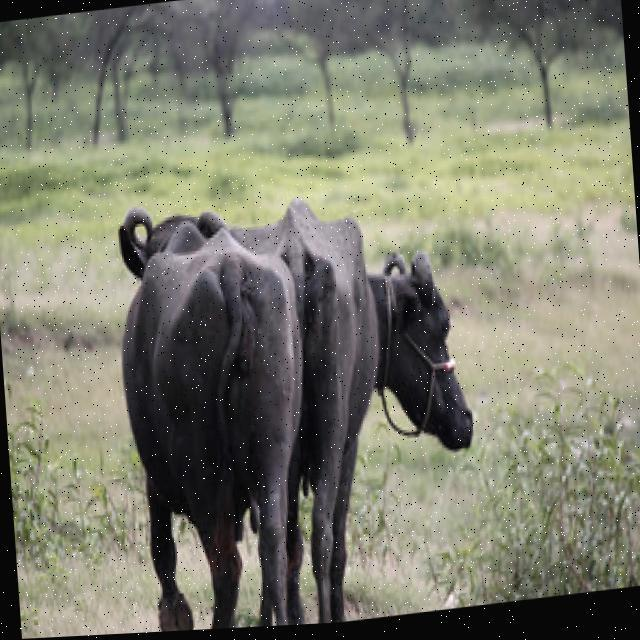Buffalo: (105, 157, 487, 635)
